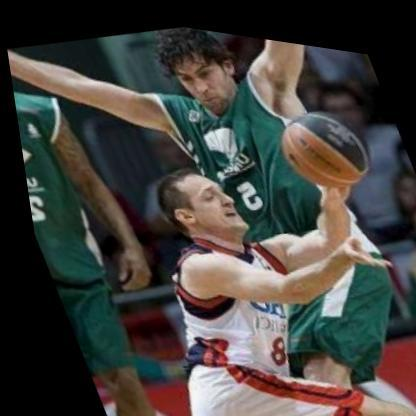basketball: (260, 80, 385, 201)
